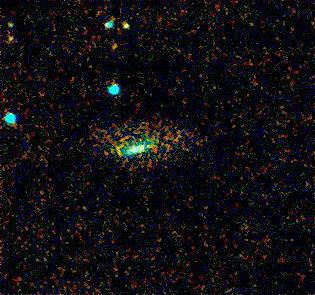star: (114, 11, 144, 41)
